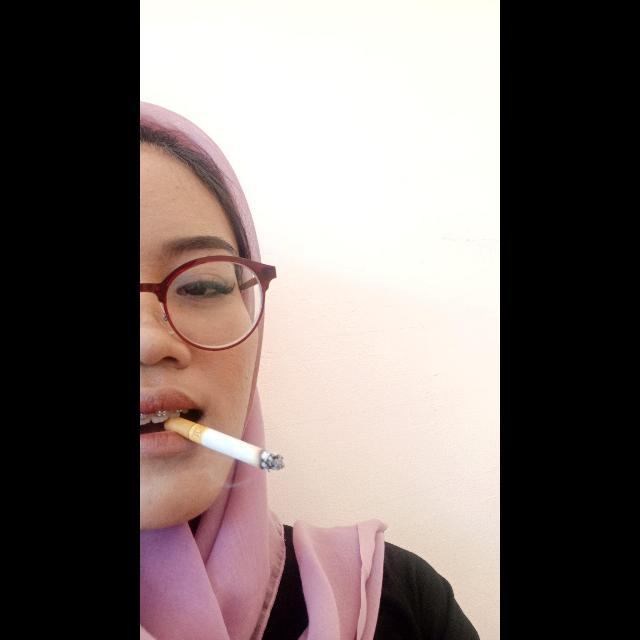rokok: (166, 412, 284, 476)
